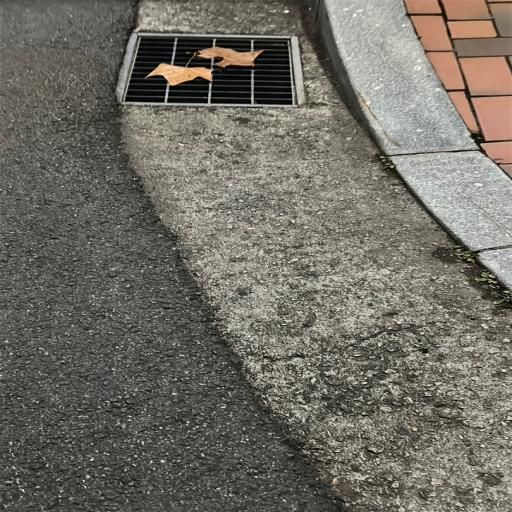debris: (151, 62, 212, 85), (197, 46, 260, 67)
drain: (127, 35, 298, 102)
